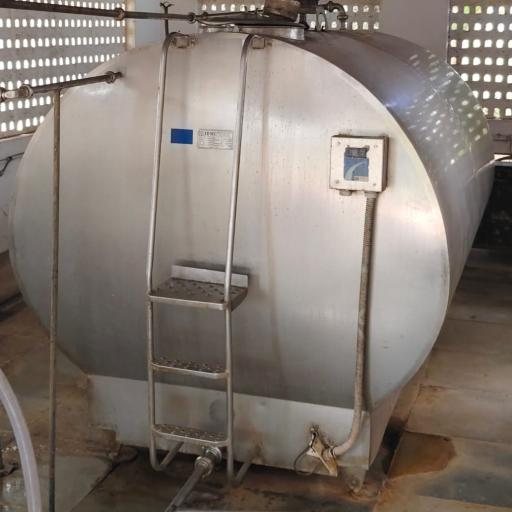silo: (12, 12, 497, 467)
